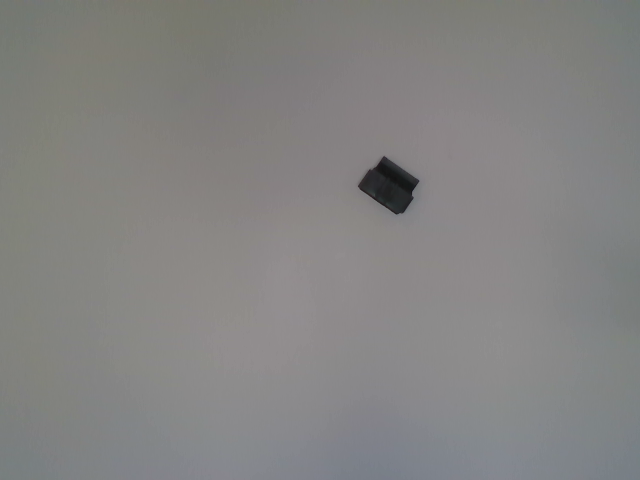large_gray: (358, 156, 419, 215)
